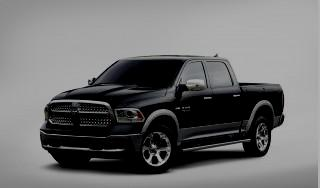ram: (69, 109, 82, 119)
